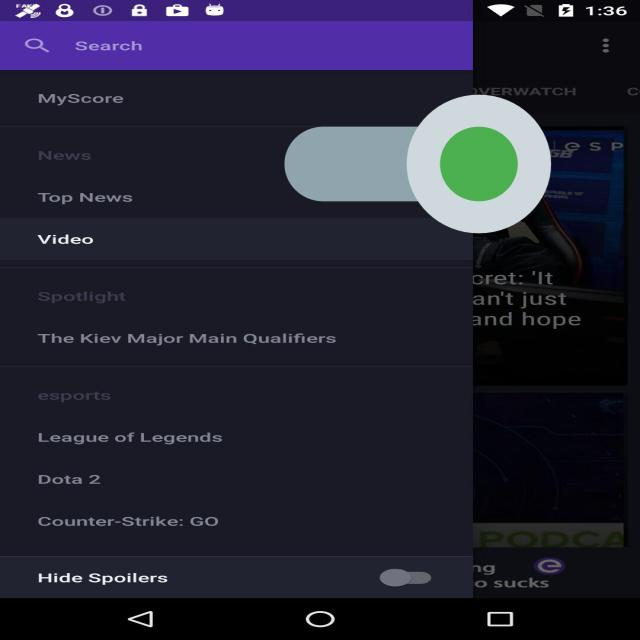social proof: (285, 36, 551, 292)
